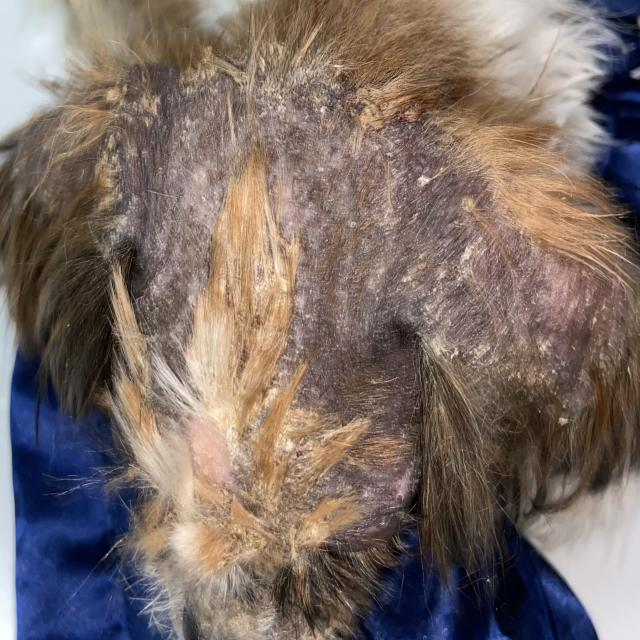demodicosis: (277, 97, 623, 546), (65, 77, 265, 326)
